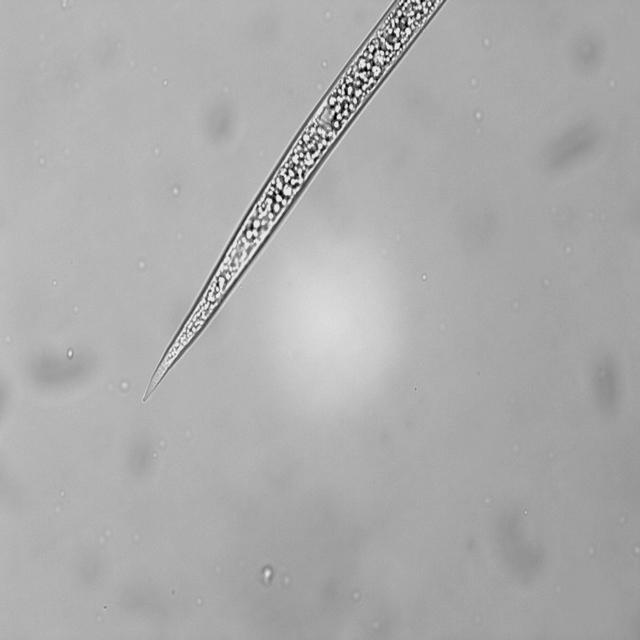Meloidogyne: (136, 0, 464, 412)
